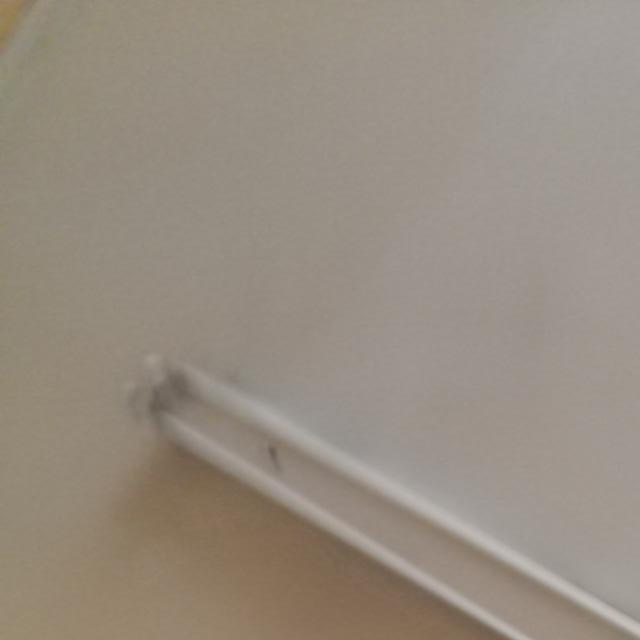fluorescent tube: (125, 321, 640, 640)
